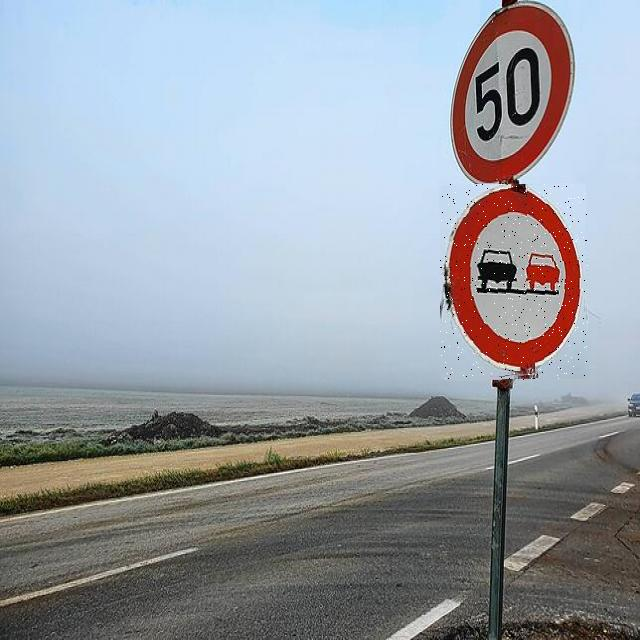no overtaking: (440, 184, 588, 380)
